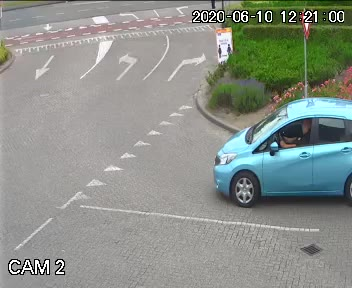car: (203, 89, 352, 200)
